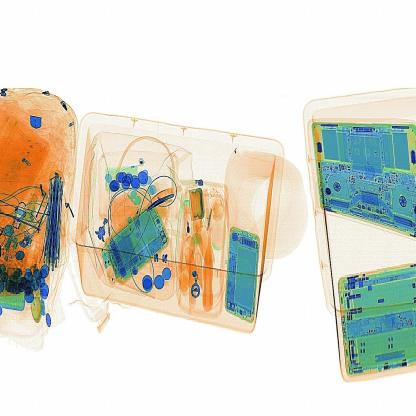wrench: (136, 174, 191, 221)
